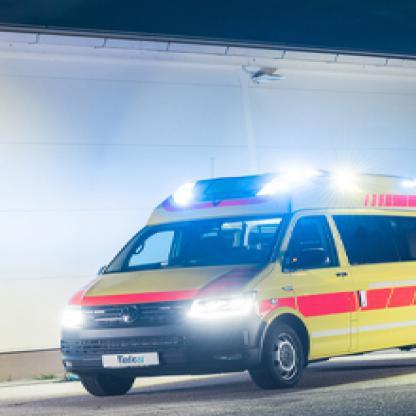Ambulance - v1 Ambulance last generate: (61, 172, 415, 398)
